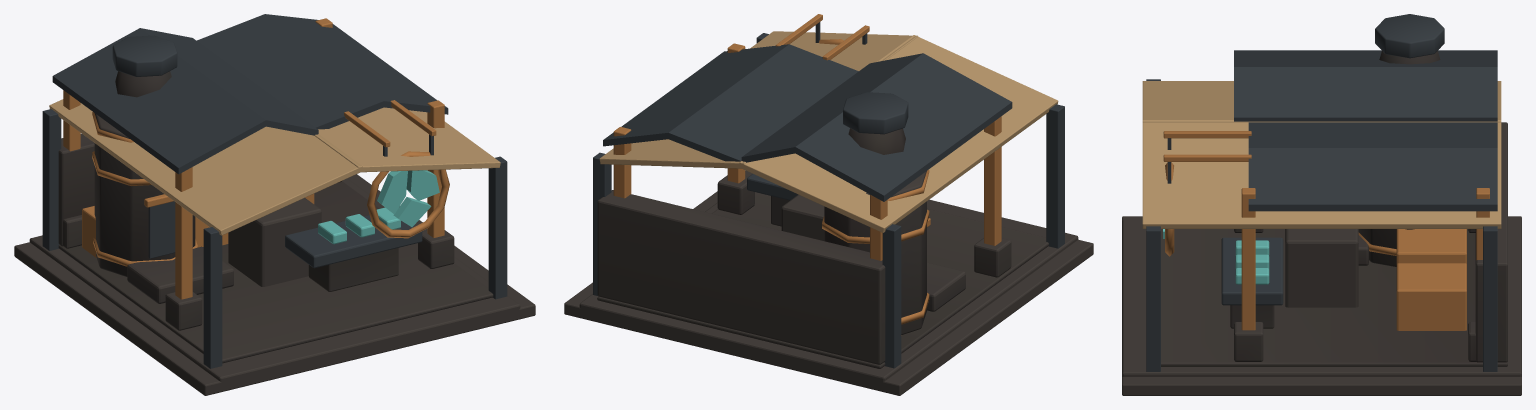
File: emberglass-arrival-v1.glb
The picture shows the model from 3 angles, left to right: view 1: azimuth 30°, elevation 25°; view 2: azimuth 150°, elevation 25°; view 3: azimuth 270°, elevation 25°; orthographic projection. The views are drawn at different scales.
Visible parts, largest first — view 1: GB_EMBERGLASS_SMITHY_Geometry, GB_EMBERGLASS_SHELTER_Geometry, GB_EMBERGLASS_BASALT_Geometry; view 2: GB_EMBERGLASS_SMITHY_Geometry, GB_EMBERGLASS_SHELTER_Geometry, GB_EMBERGLASS_BASALT_Geometry; view 3: GB_EMBERGLASS_SMITHY_Geometry, GB_EMBERGLASS_SHELTER_Geometry, GB_EMBERGLASS_BASALT_Geometry.
Boxes of the visible parts, x1,y1,x2,y2 form: GB_EMBERGLASS_SMITHY_Geometry: (29,14,520,389); GB_EMBERGLASS_SHELTER_Geometry: (14,99,535,395); GB_EMBERGLASS_BASALT_Geometry: (228,198,321,286); GB_EMBERGLASS_SMITHY_Geometry: (579,14,1078,389); GB_EMBERGLASS_SHELTER_Geometry: (564,31,1093,395); GB_EMBERGLASS_BASALT_Geometry: (781,194,824,240); GB_EMBERGLASS_SMITHY_Geometry: (1122,14,1521,376); GB_EMBERGLASS_SHELTER_Geometry: (1122,79,1521,395); GB_EMBERGLASS_BASALT_Geometry: (1285,229,1358,307).
Size of the model in its own units: 5.46 by 3.6 by 5.46.
